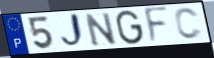5: (26, 14, 56, 51)
C: (173, 7, 204, 41)
F: (143, 5, 171, 46)
G: (114, 9, 145, 46)
J: (60, 12, 87, 50)
N: (83, 11, 119, 48)
